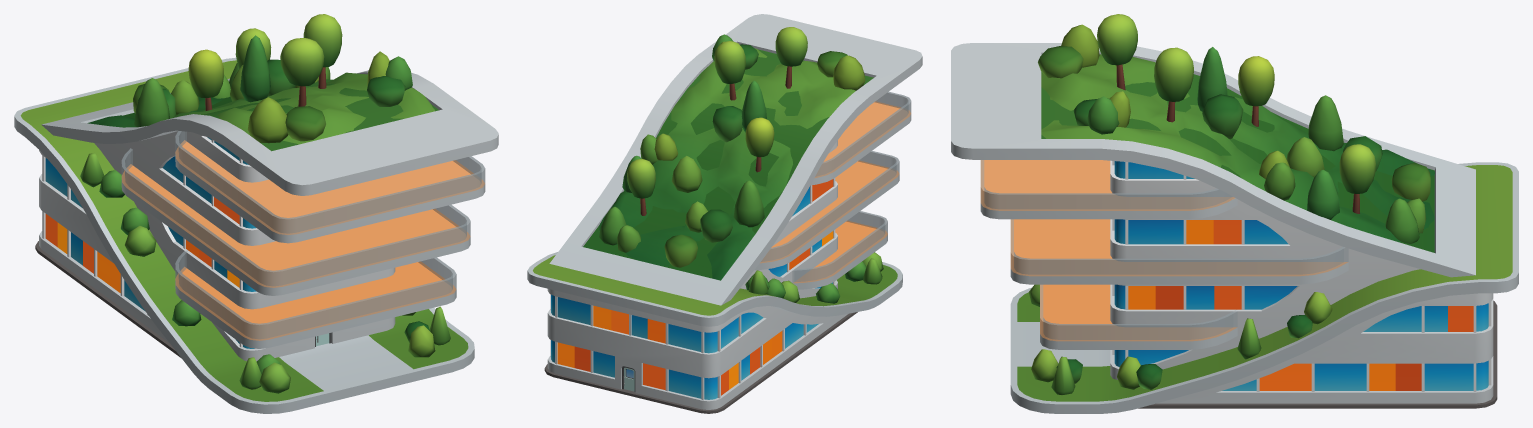
File: Eco_Building_Terrace.glb
3 renders of one model, left to right at view 1: azimuth 30°, elevation 25°; view 2: azimuth 150°, elevation 25°; view 3: azimuth 270°, elevation 25°, orthographic. The views are drawn at different scales.
Visible parts, largest first — view 1: Eco_Building_Terrace, Eco_Building_Terrace_NightLight; view 2: Eco_Building_Terrace, Eco_Building_Terrace_NightLight; view 3: Eco_Building_Terrace, Eco_Building_Terrace_NightLight.
Boxes of the visible parts, <box> form: Eco_Building_Terrace: <box>14,14,498,413</box>; Eco_Building_Terrace_NightLight: <box>45,197,239,292</box>; Eco_Building_Terrace: <box>527,14,922,413</box>; Eco_Building_Terrace_NightLight: <box>557,179,833,395</box>; Eco_Building_Terrace: <box>951,14,1518,413</box>; Eco_Building_Terrace_NightLight: <box>1128,220,1473,390</box>.
Bounding box in the file's own units: 19.09 × 24.41 × 38.21.
Materials: 3 (3 with a texture image).
